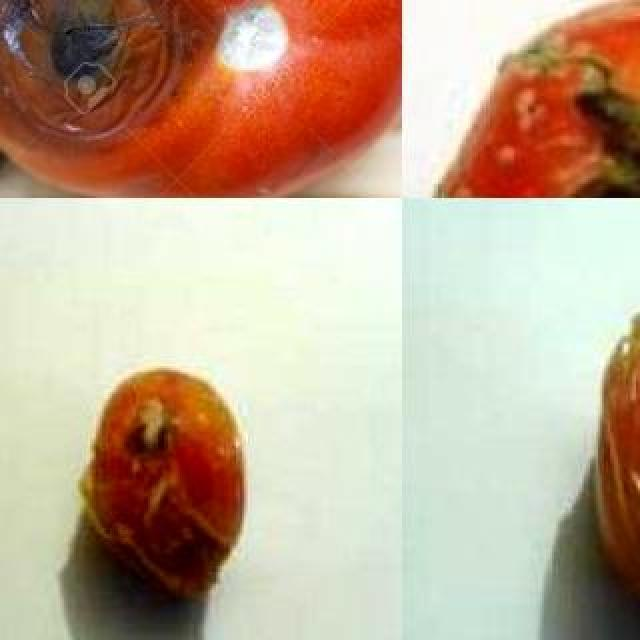Rotten_Tomato: (0, 0, 402, 198), (74, 366, 256, 606), (426, 0, 640, 198), (584, 298, 640, 640)
